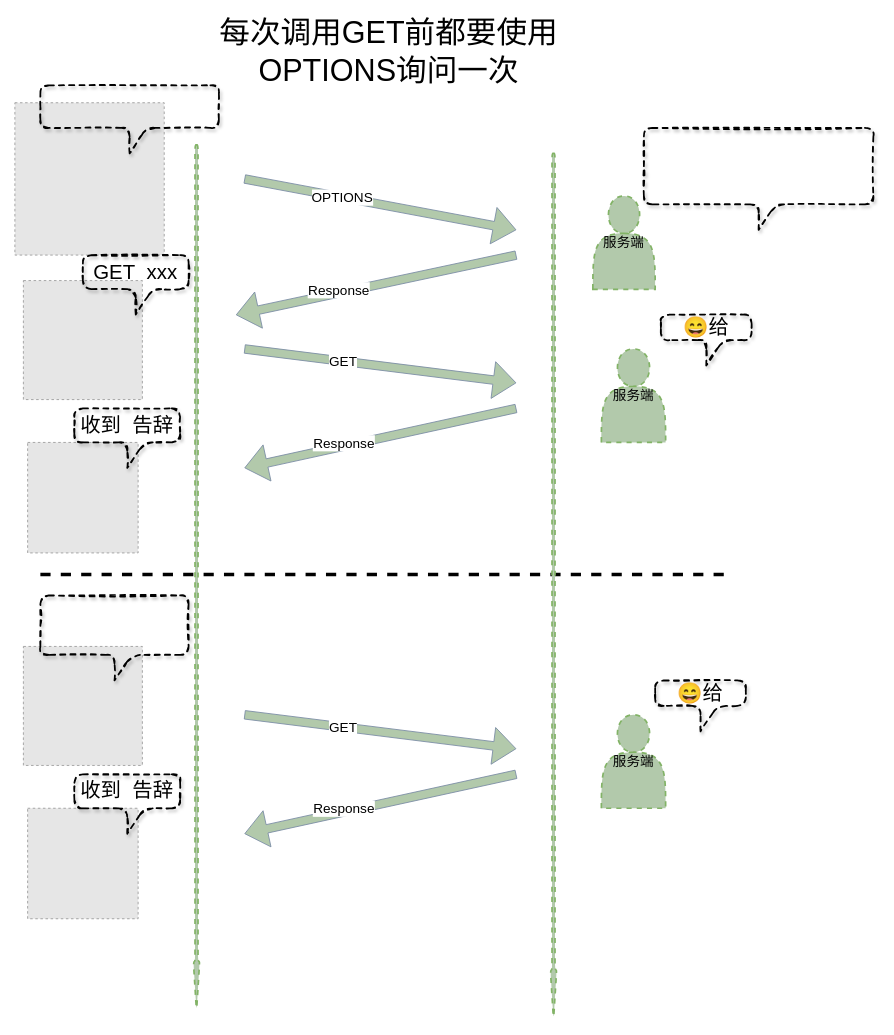
This 894x1035 diagram has some shape labels left out. Grey dashed boxes stand in for pictures. The shapes that lost their labels are listed below. From the top down, each one's centre as x and y in pixels, then its label:
At pixel 130 120: "我可以GET你吗？".
At pixel 759 179: "可以哦, 接下来的 Access-Control-Max-Age 秒内都别再问这个问题啦".
At pixel 115 639: "上次问过你了，这次我就直接GET xxx".
